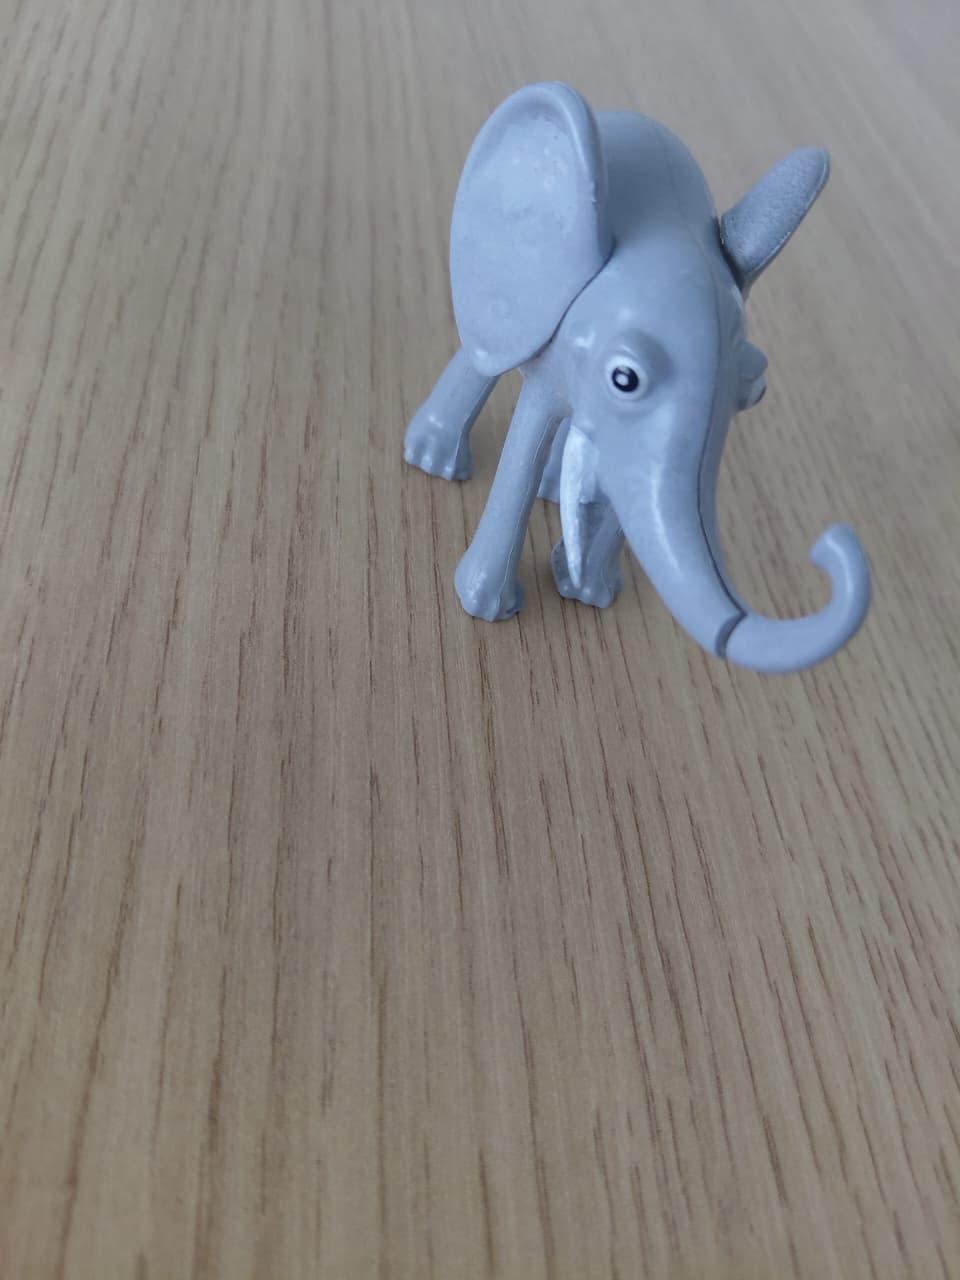elephant: (385, 38, 926, 739)
